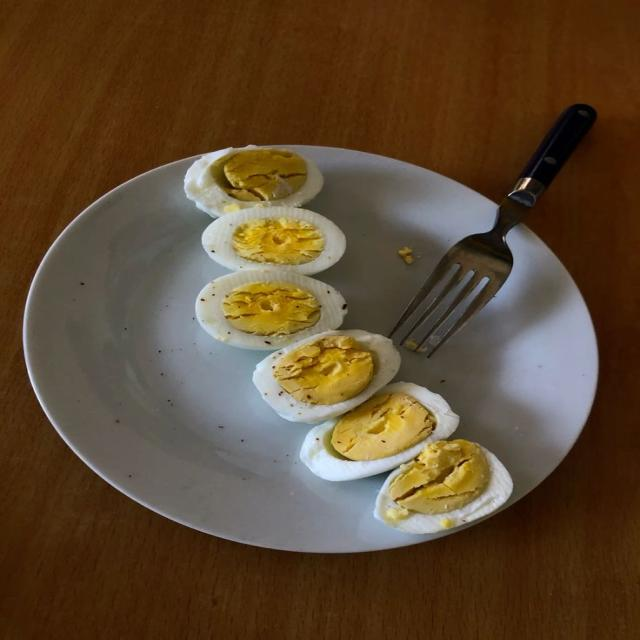egg boiled: (300, 382, 459, 480), (254, 330, 399, 423), (374, 441, 513, 534), (196, 270, 346, 350), (184, 145, 323, 217), (202, 207, 346, 275)
